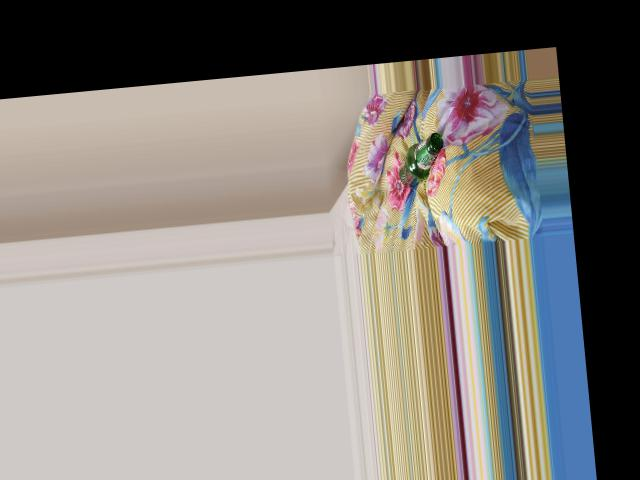beer: (395, 131, 448, 188)
